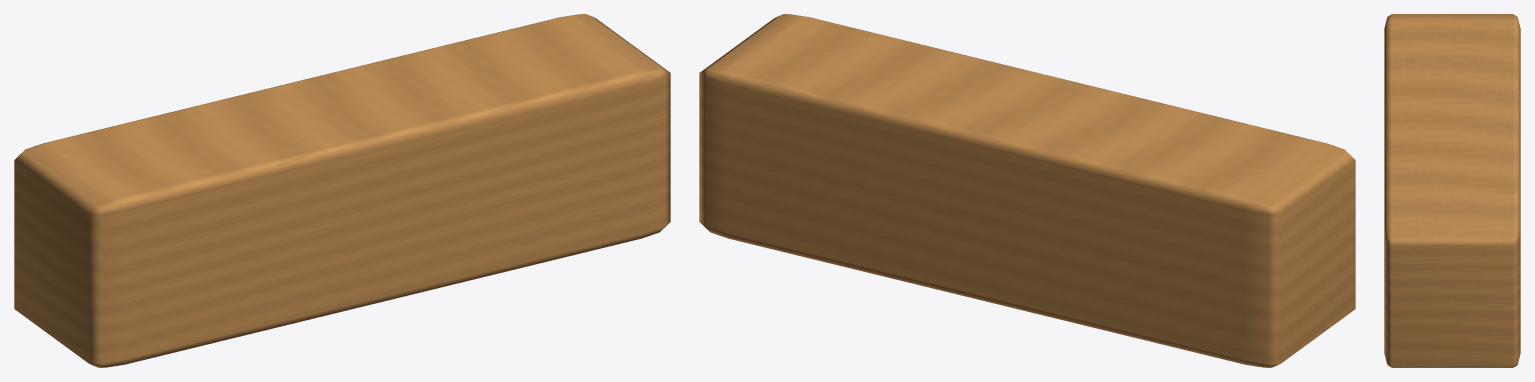
File: wall_beech_4m.glb
The picture shows the model from 3 angles, left to right: view 1: azimuth 30°, elevation 25°; view 2: azimuth 150°, elevation 25°; view 3: azimuth 270°, elevation 25°; orthographic projection. The views are drawn at different scales.
Parts seen in each view (by area): view 1: Block.002; view 2: Block.002; view 3: Block.002.
Boxes of the visible parts, x1,y1,x2,y2 form: Block.002: (14, 14, 670, 367); Block.002: (699, 14, 1355, 367); Block.002: (1384, 14, 1520, 367).
Size of the model in its own units: 4 by 1.1 by 1.
1 material, 1 textured.
